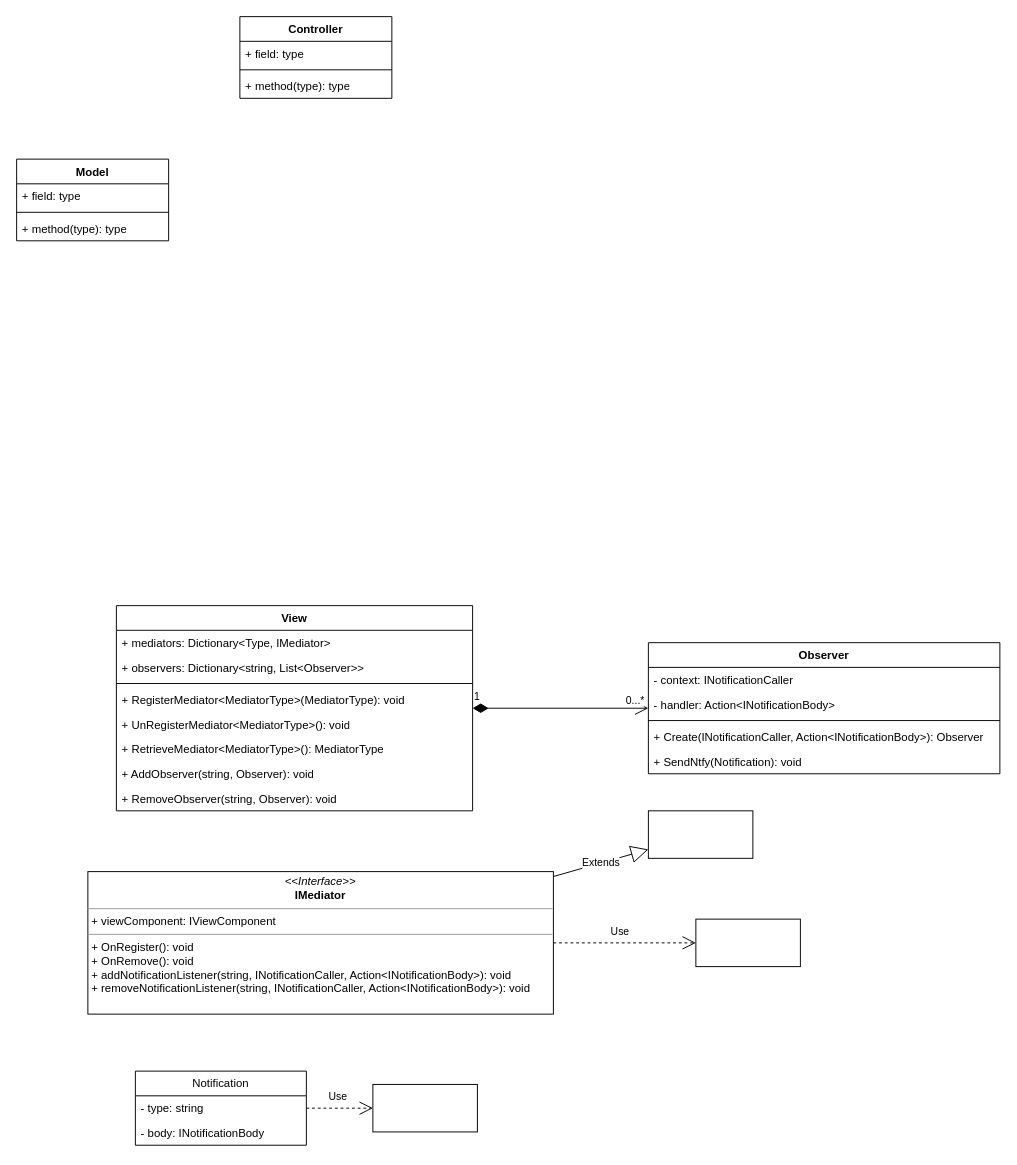
This 1017x1165 diagram has some shape labels left out. Here are the shapes that lost their labels. From the top down, the centre of each, then its label:
At point (700, 834): "«interface» INotificationCaller".
At point (747, 942): "«interface» IViewComponent".
At point (424, 1107): "«interface» INotificationBody".
